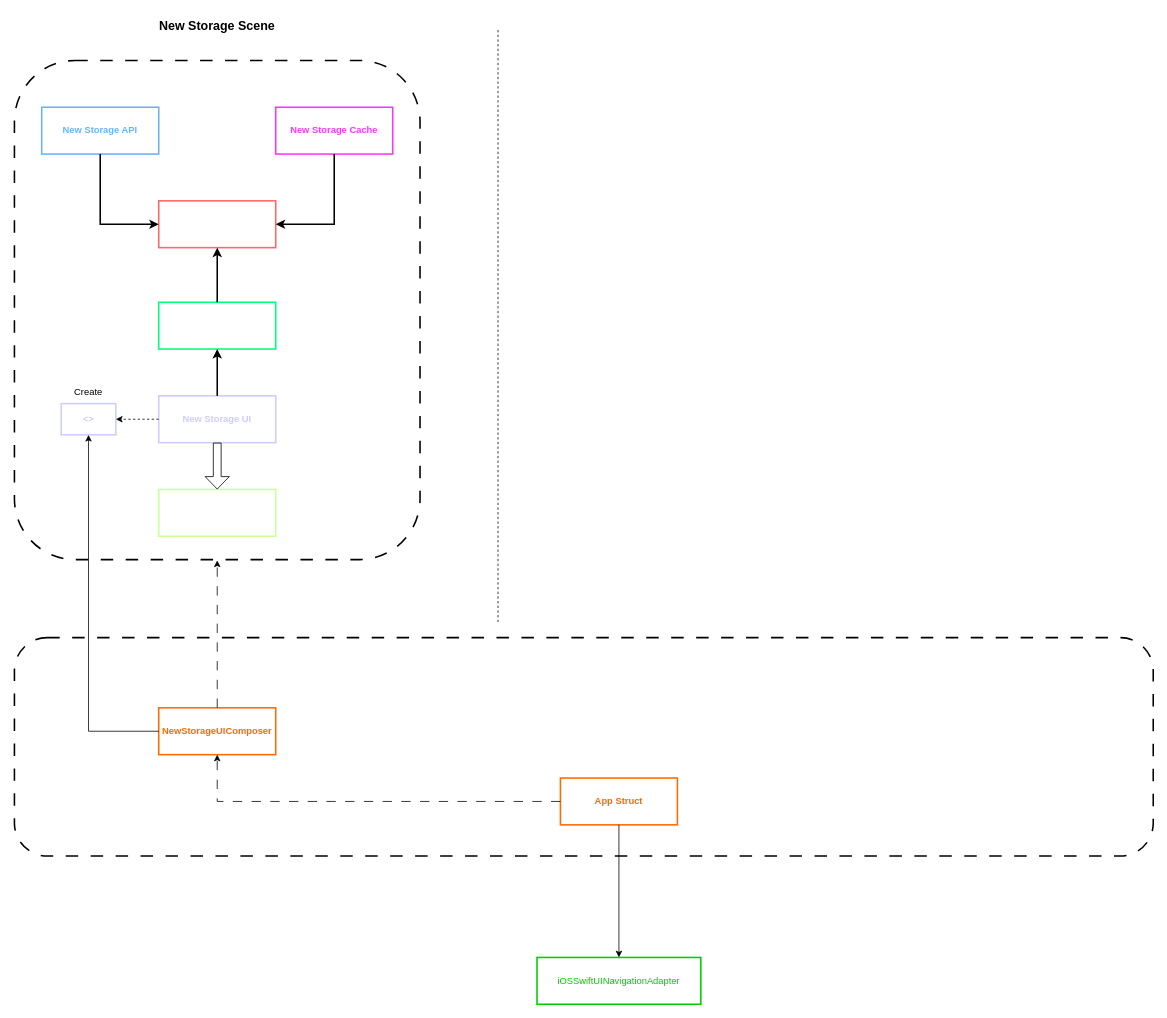
The diagram is 1167 pixels wide and 1018 high, and some of its shapes have lost their labels. The centre of each missing label's shape, as x and y in pixels:
New Storage: (217,224)
New Storage Presentation: (217,325)
SwiftUI: (217,512)
